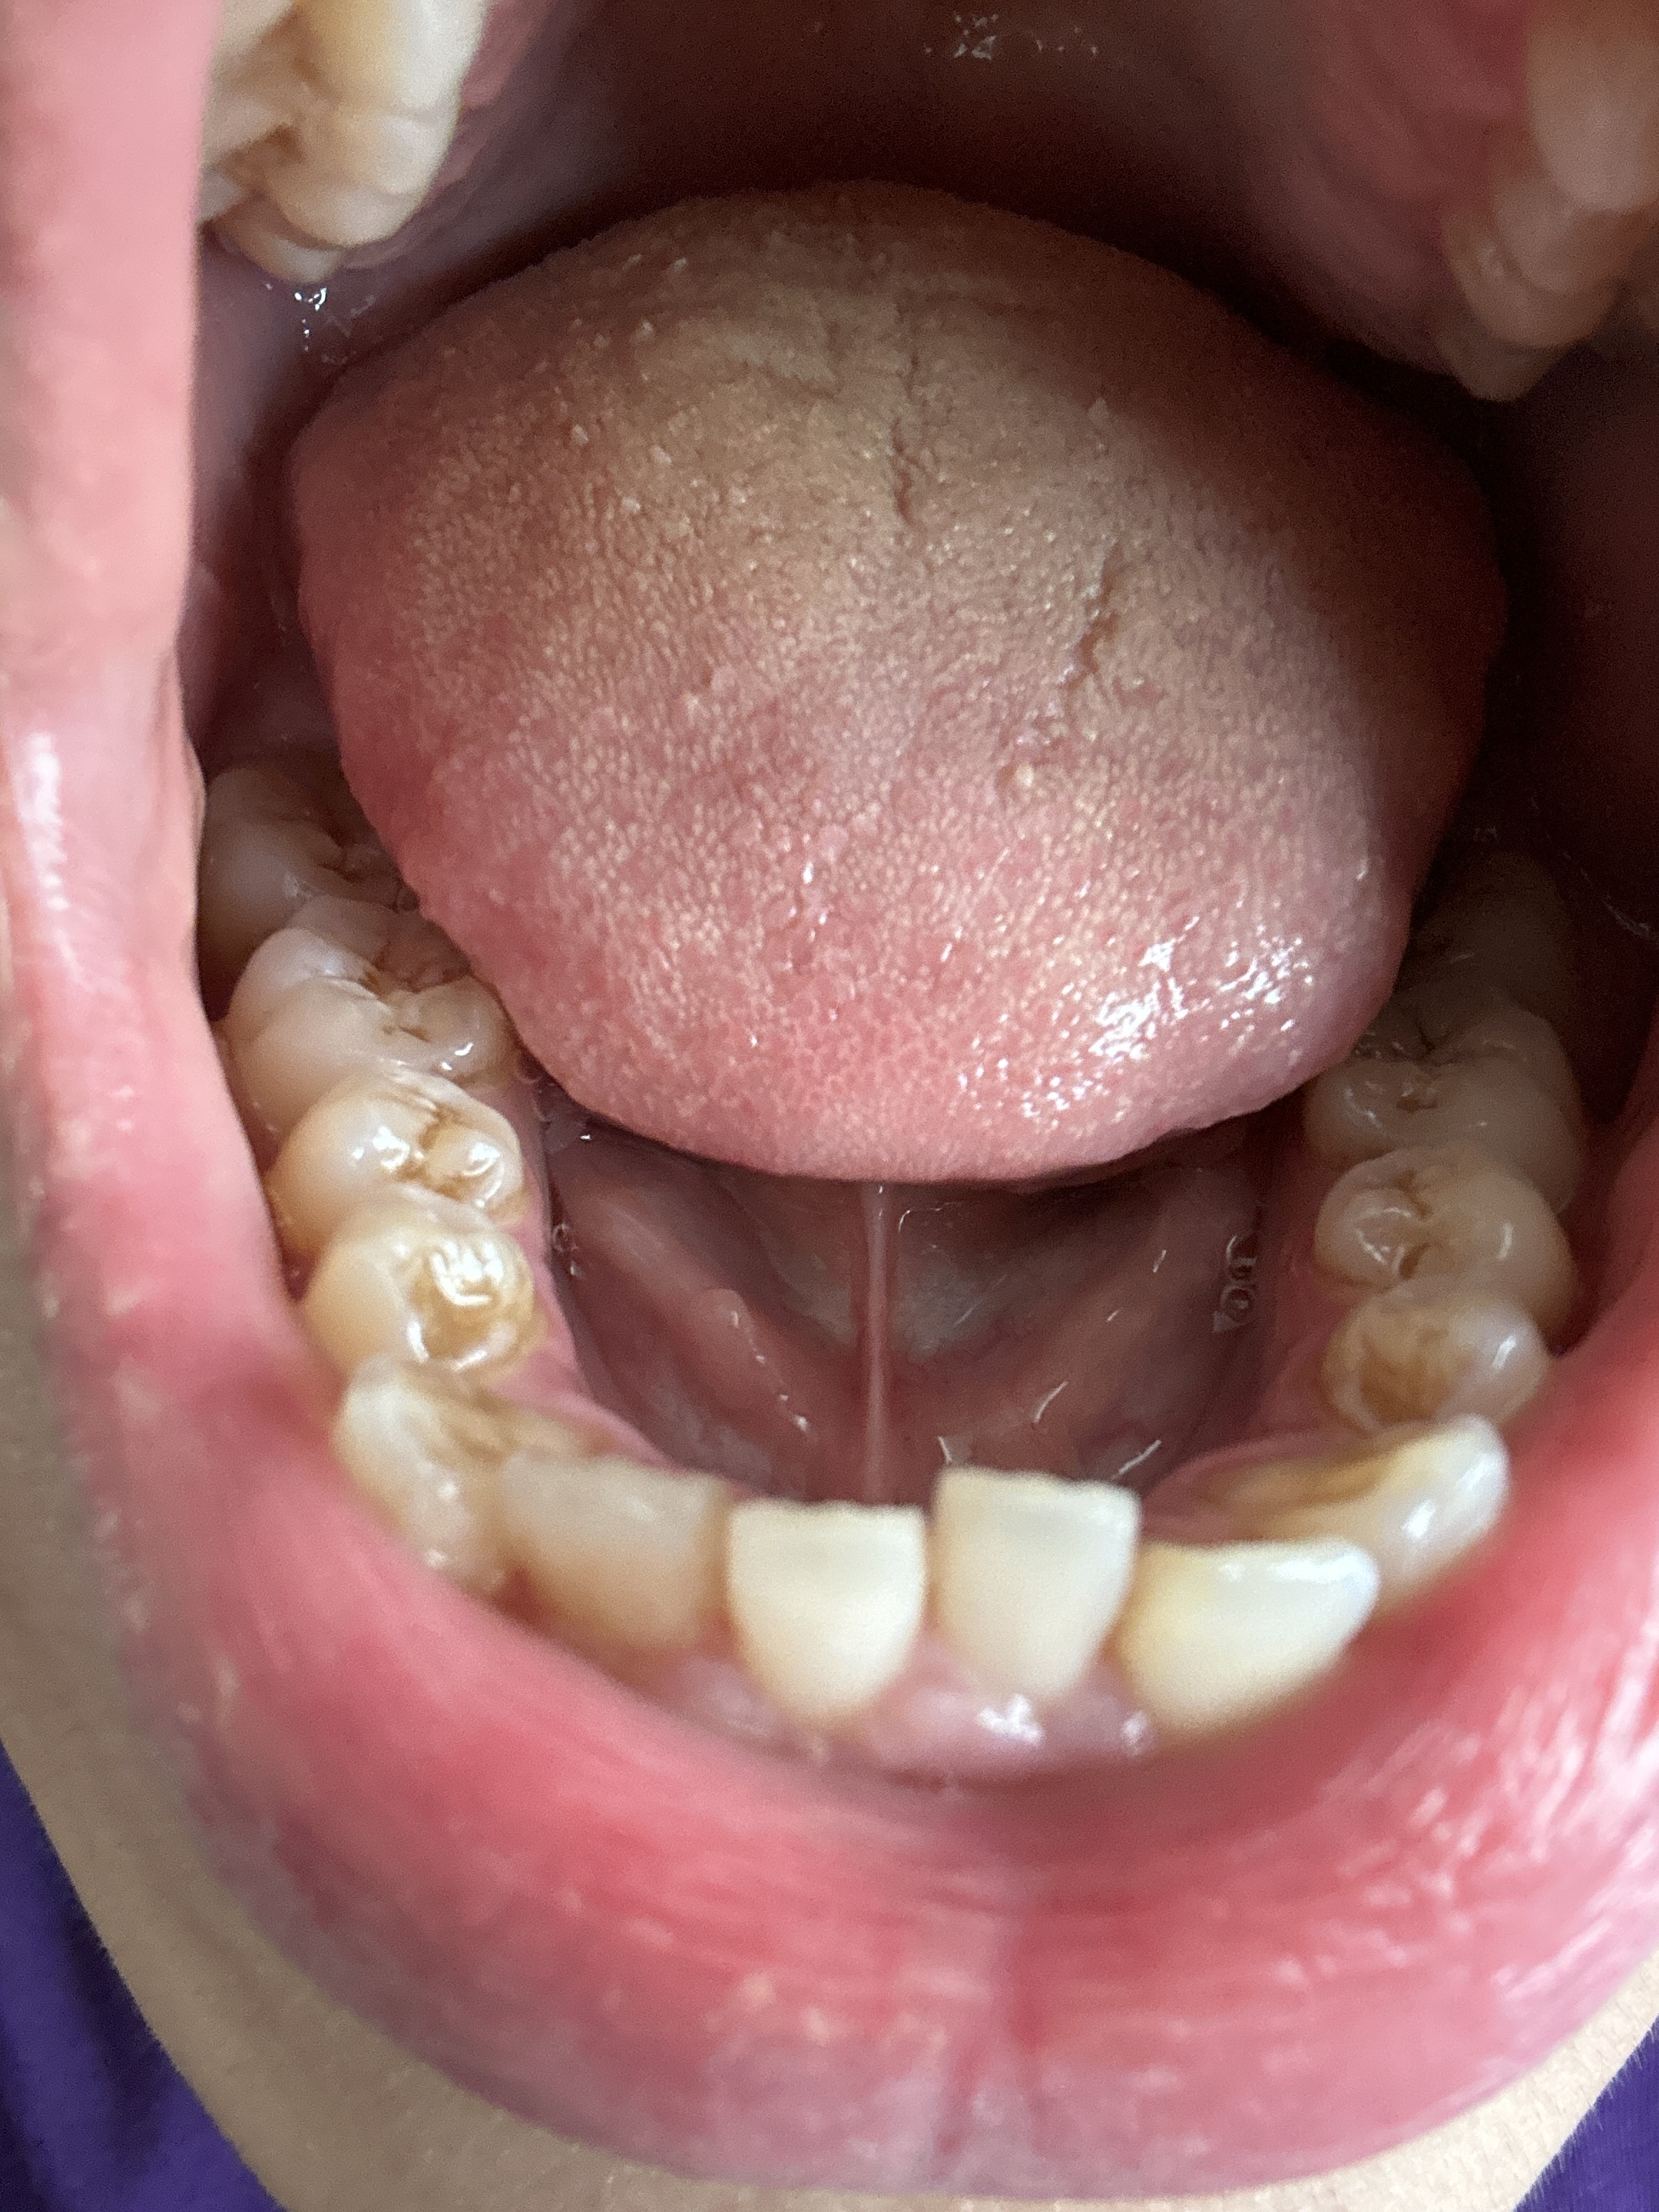teeth: (1124, 1533, 1364, 1738), (242, 913, 498, 1096), (1243, 1414, 1499, 1578), (206, 742, 401, 939), (938, 1470, 1110, 1691), (735, 1500, 908, 1710), (486, 1477, 697, 1648), (1326, 1015, 1568, 1150), (328, 1360, 505, 1531), (1317, 1165, 1572, 1284), (331, 1193, 518, 1348), (1347, 1270, 1537, 1407), (275, 1085, 516, 1193)
